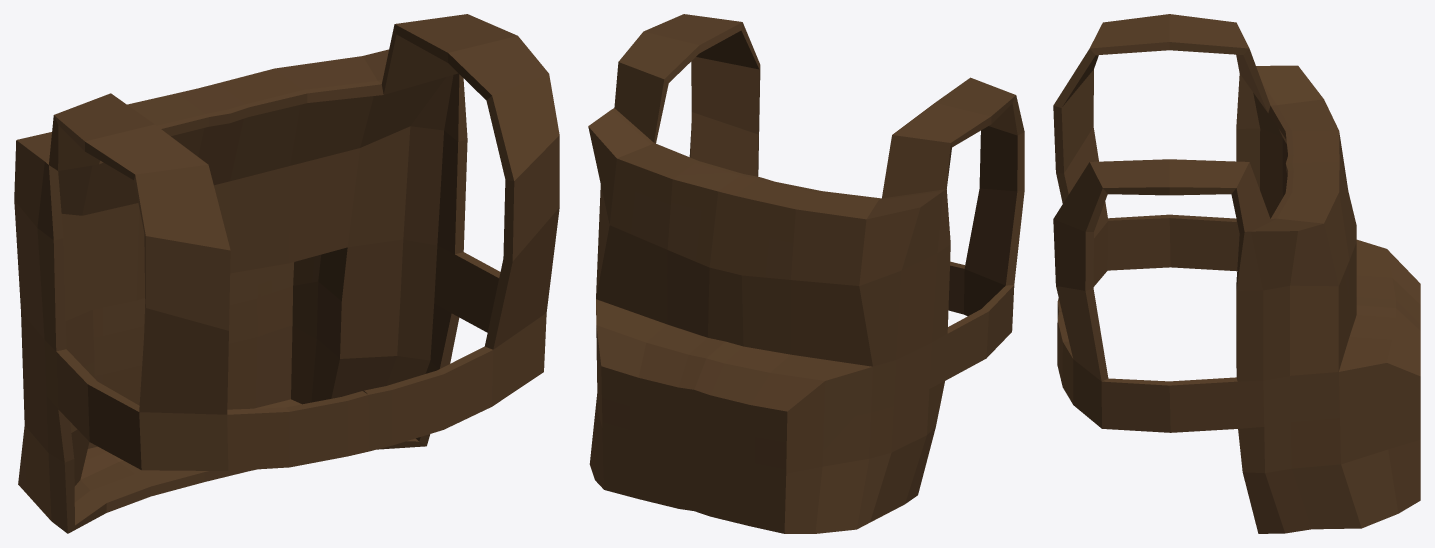
The model's file is Backpack01.fbx.
The picture shows the model from 3 angles, left to right: view 1: azimuth 30°, elevation 25°; view 2: azimuth 150°, elevation 25°; view 3: azimuth 270°, elevation 25°; orthographic projection. The views are drawn at different scales.
Parts seen in each view (by area): view 1: Backpack; view 2: Backpack; view 3: Backpack.
Boxes of the visible parts, <box> form: Backpack: <box>14,14,559,533</box>; Backpack: <box>588,14,1024,533</box>; Backpack: <box>1053,14,1420,533</box>.
Size of the model in its own units: 0.4486 by 0.4386 by 0.4022.
